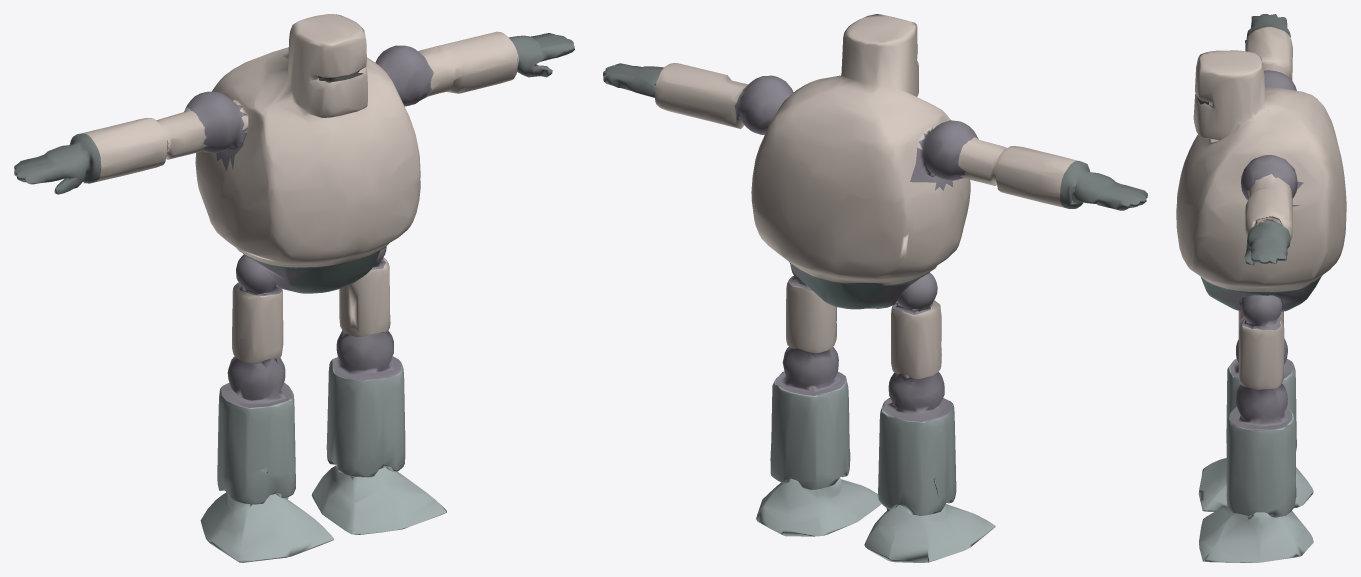
File: sentinel.glb
3 renders of one model, left to right at view 1: azimuth 30°, elevation 25°; view 2: azimuth 150°, elevation 25°; view 3: azimuth 270°, elevation 25°, orthographic. The views are drawn at different scales.
Parts seen in each view (by area): view 1: sentinel tripo; view 2: sentinel tripo; view 3: sentinel tripo.
Part boxes in pixels (x1,y1,x2,y2): sentinel tripo: [14, 14, 574, 562]; sentinel tripo: [603, 14, 1147, 562]; sentinel tripo: [1176, 14, 1346, 562].
Size of the model in its own units: 2.31 by 2 by 0.674.
